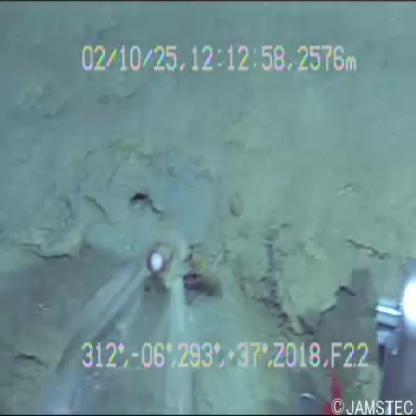Rov: (350, 238, 415, 415)
Rác: (37, 194, 243, 415)
